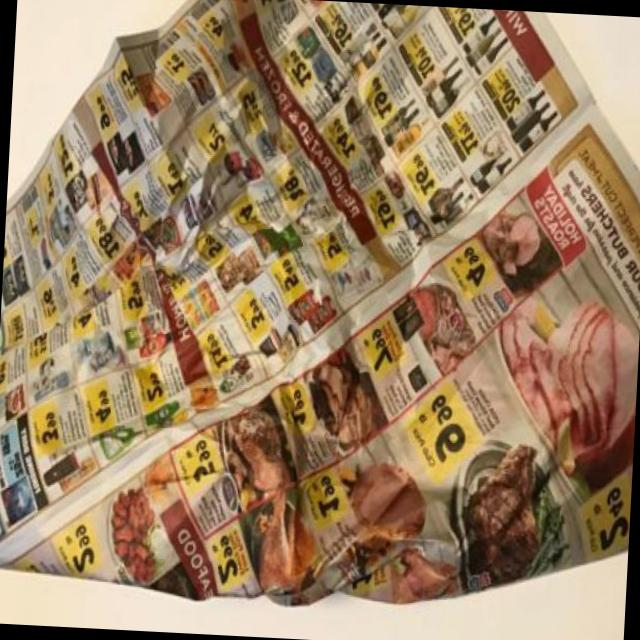cardboard paper: (0, 0, 640, 608)
